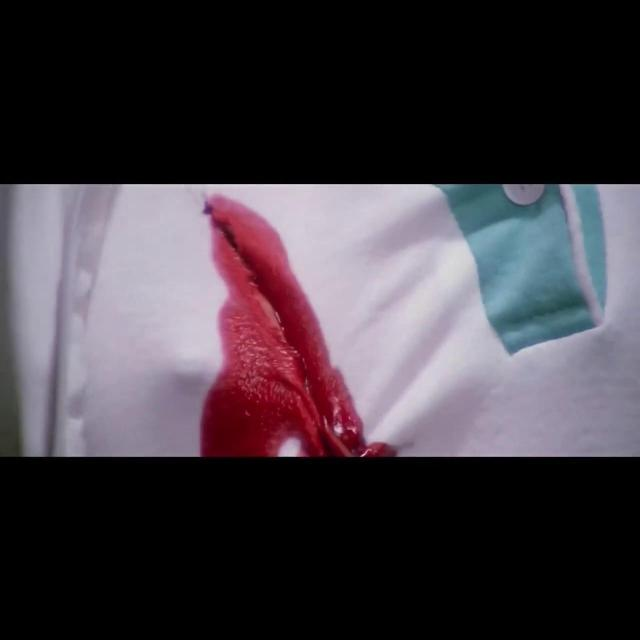blood: (201, 194, 396, 456), (256, 334, 259, 336)
